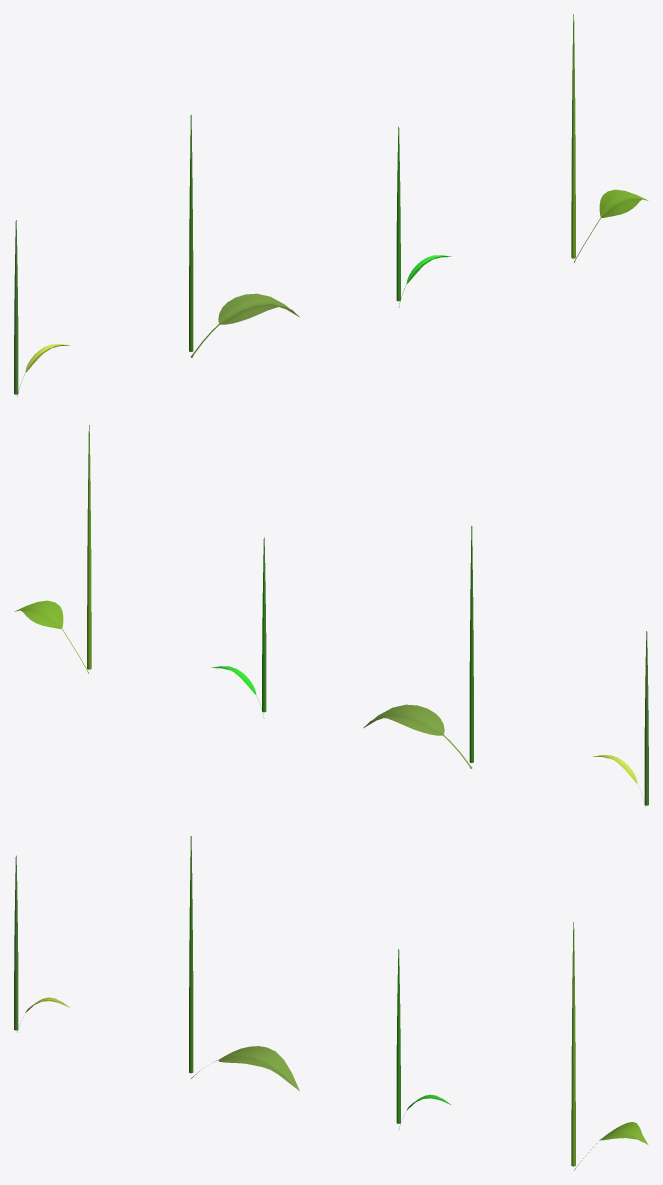
Rendered from TYPES_OF_LEAVES.gltf.
3 renders of one model, top to bottom at view 1: azimuth 30°, elevation 25°; view 2: azimuth 150°, elevation 25°; view 3: azimuth 330°, elevation 25°, orthographic.
Visible parts, largest first — view 1: FEUILLE, tIGE.002, FEUILLE.002, tIGE, tIGE.001, tIGE.003; view 2: FEUILLE, tIGE.002, FEUILLE.002, tIGE, tIGE.001, tIGE.003; view 3: FEUILLE, tIGE.002, tIGE, tIGE.003, tIGE.001, FEUILLE.002.
Part boxes in pixels (x1,y1,x2,y2): FEUILLE: (190,293,299,357); tIGE.002: (571,14,575,258); FEUILLE.002: (574,189,648,262); tIGE: (189,115,193,351); tIGE.001: (396,126,400,301); tIGE.003: (14,220,18,394); FEUILLE: (363,704,472,768); tIGE.002: (87,425,91,669); FEUILLE.002: (14,600,88,673); tIGE: (469,526,473,762); tIGE.001: (262,537,266,712); tIGE.003: (644,631,648,805); FEUILLE: (191,1046,299,1091); tIGE.002: (571,922,575,1166); tIGE: (189,836,193,1073); tIGE.003: (14,855,18,1030); tIGE.001: (396,949,400,1123); FEUILLE.002: (574,1122,648,1170).
Bounding box in the file's own units: 38.92 × 14.72 × 2.57.
